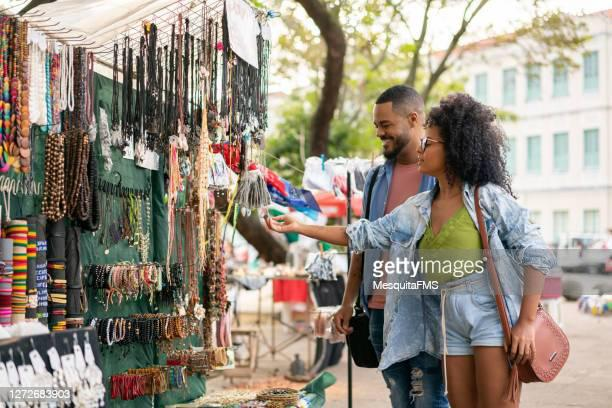without_mask: (421, 93, 510, 191), (367, 91, 423, 164)
